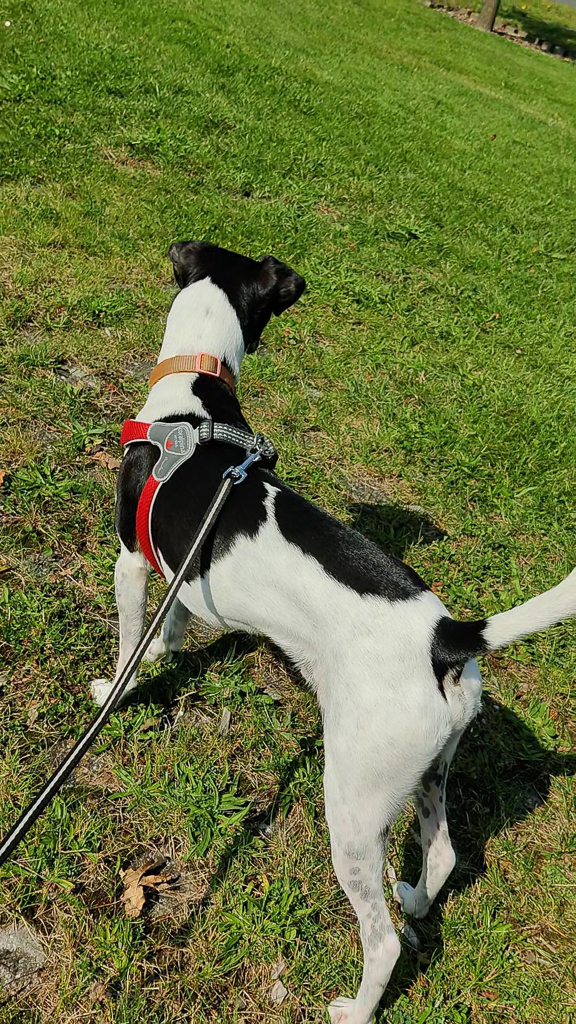Dog: (68, 224, 576, 1024)
